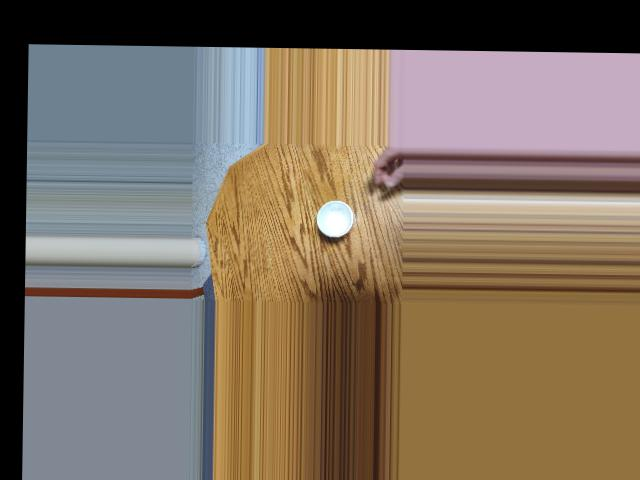cotage: (313, 196, 360, 237)
